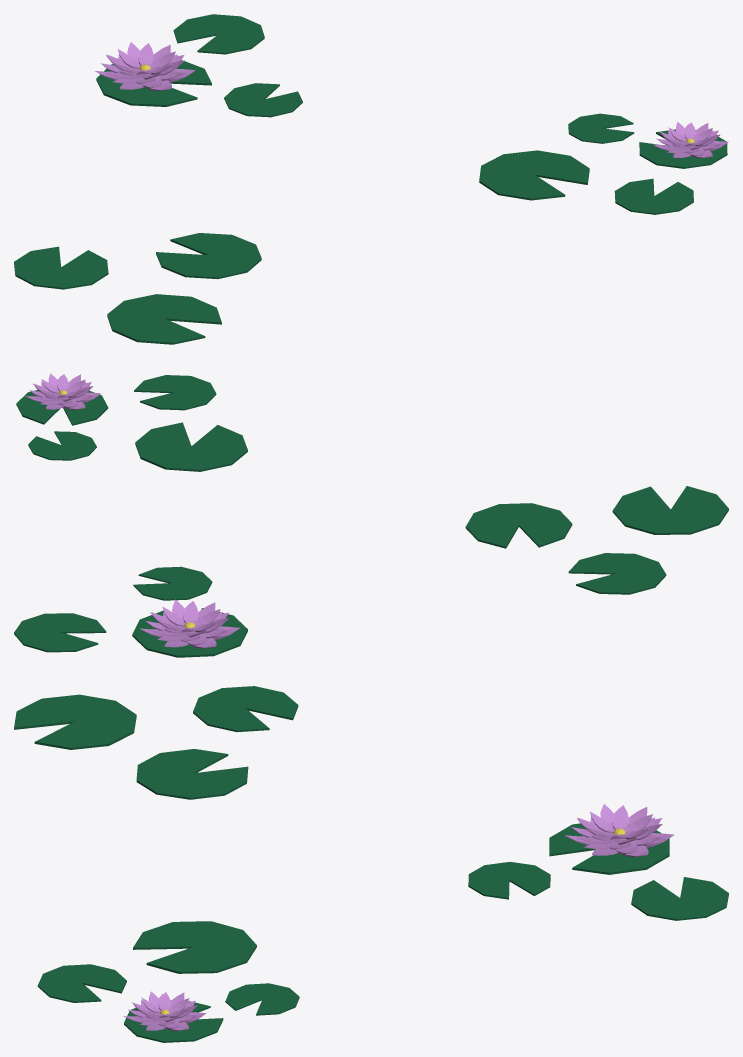
File: Seerosen.fbx
3 renders of one model, top to bottom at view 1: azimuth 30°, elevation 25°; view 2: azimuth 150°, elevation 25°; view 3: azimuth 270°, elevation 25°, orthographic. The views are drawn at different scales.
Visible parts, largest first — view 1: Zylinder, Zylinder_1_2, Zylinder_2, Zylinder_1, Array_5_2, Zylinder_1_3, Zylinder_4, Zylinder_3, Zylinder_2_4, Array_5, Zylinder_2_2, Zylinder_2_3; view 2: Zylinder, Zylinder_1_2, Zylinder_2, Zylinder_1, Array_5_2, Zylinder_1_3, Zylinder_3, Zylinder_2_4, Zylinder_4, Array_5, Zylinder_2_3, Zylinder_2_2; view 3: Zylinder, Zylinder_1_2, Zylinder_2, Zylinder_1, Array_5_2, Zylinder_1_3, Zylinder_3, Zylinder_4, Zylinder_2_4, Array_5, Zylinder_2_2, Zylinder_2_3.
Part boxes in pixels (box(x1,y1,x2,y2)): Zylinder: box(107, 294, 221, 344); Zylinder_1_2: box(479, 150, 589, 200); Zylinder_2: box(156, 233, 261, 279); Zylinder_1: box(14, 246, 108, 289); Array_5_2: box(95, 42, 195, 90); Zylinder_1_3: box(173, 14, 264, 54); Zylinder_4: box(96, 60, 211, 106); Zylinder_3: box(614, 178, 693, 214); Zylinder_2_4: box(224, 83, 302, 117); Array_5: box(653, 121, 728, 158); Zylinder_2_2: box(568, 113, 634, 143); Zylinder_2_3: box(639, 129, 727, 168); Zylinder: box(612, 486, 728, 534); Zylinder_1_2: box(135, 422, 247, 471); Zylinder_2: box(465, 503, 572, 548); Zylinder_1: box(568, 553, 666, 594); Array_5_2: box(140, 599, 239, 648); Zylinder_1_3: box(14, 613, 106, 652); Zylinder_3: box(134, 375, 216, 410); Zylinder_2_4: box(133, 566, 212, 600); Zylinder_4: box(132, 608, 247, 657); Array_5: box(25, 373, 100, 409); Zylinder_2_3: box(16, 390, 108, 425); Zylinder_2_2: box(28, 431, 96, 460); Zylinder: box(14, 694, 136, 749); Zylinder_1_2: box(133, 921, 256, 973); Zylinder_2: box(136, 749, 248, 799); Zylinder_1: box(193, 686, 298, 732); Array_5_2: box(565, 804, 674, 856); Zylinder_1_3: box(631, 877, 728, 920); Zylinder_3: box(37, 964, 126, 1002); Zylinder_4: box(549, 823, 669, 874); Zylinder_2_4: box(468, 862, 550, 899); Array_5: box(123, 991, 206, 1030); Zylinder_2_2: box(225, 983, 299, 1015); Zylinder_2_3: box(124, 1000, 223, 1042).
Bounding box in the file's own units: 271 × 9.05 × 231.
